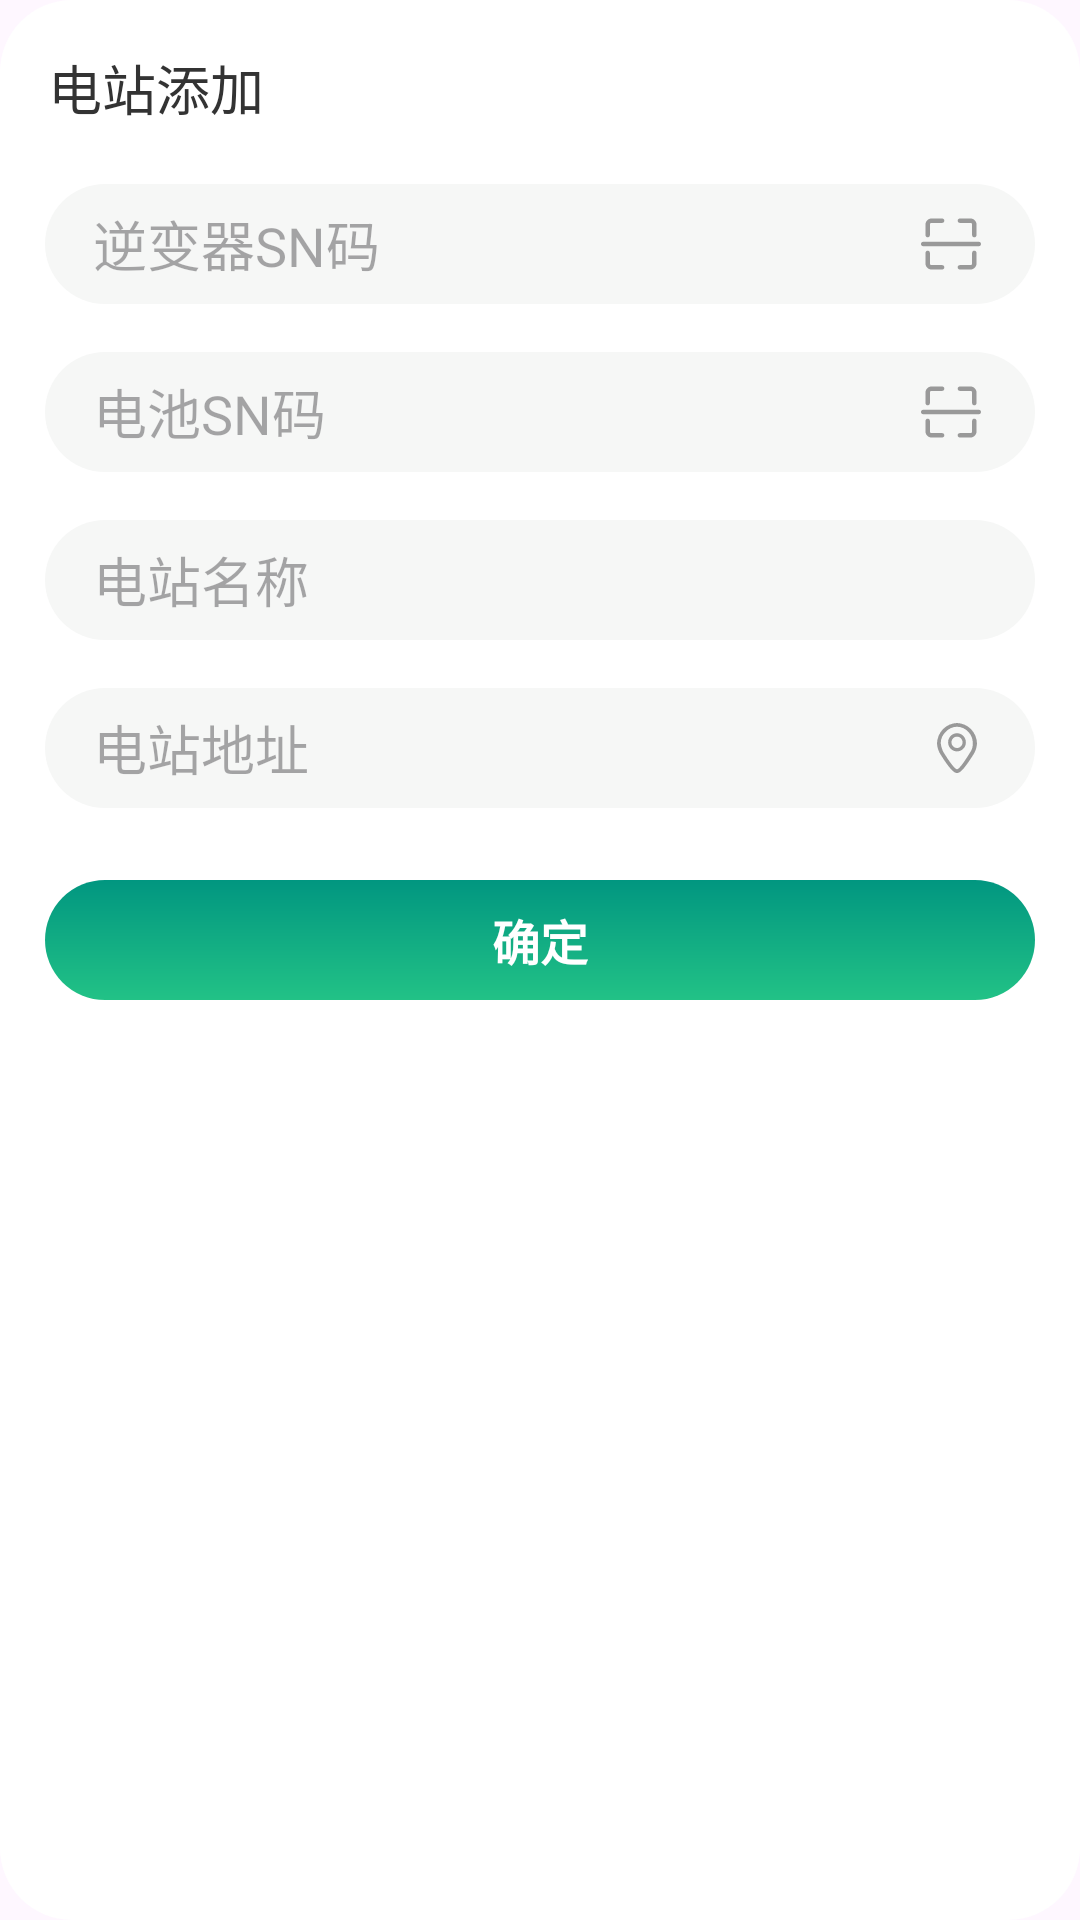

Screen size 1080px x 1920px. Icon name, then its center in pixels as (x=x, y=y):
location: (x=957, y=748)
scan: (x=951, y=244), (x=951, y=412)
